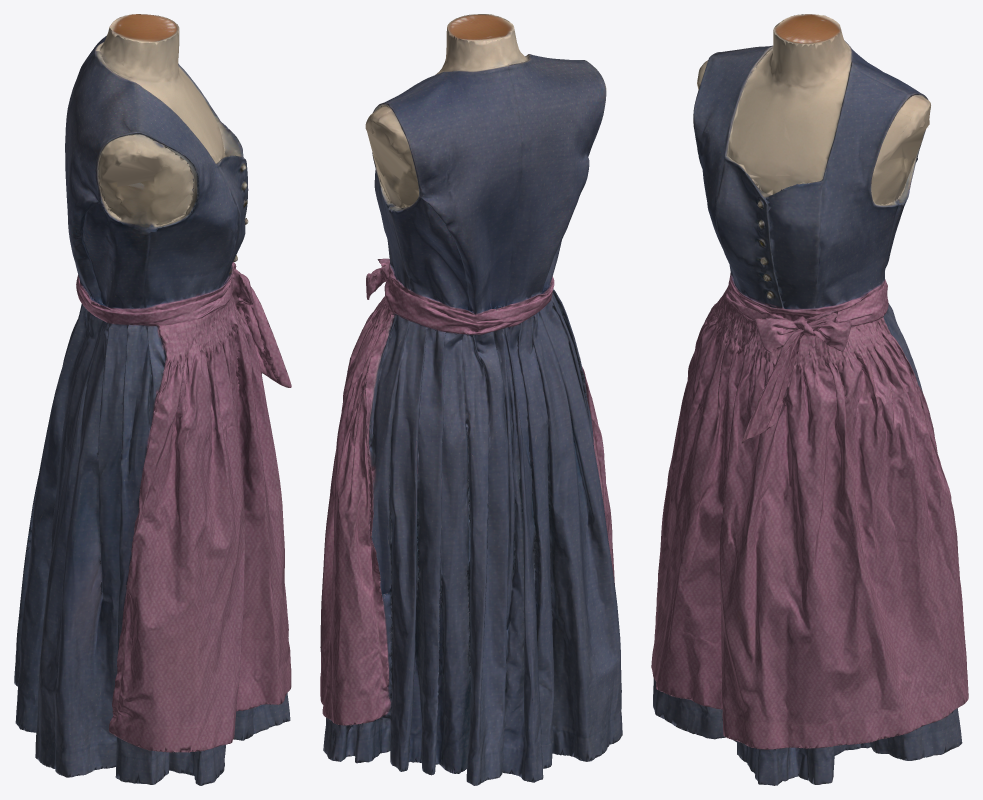
The picture shows the model from 3 angles, left to right: view 1: azimuth 30°, elevation 25°; view 2: azimuth 150°, elevation 25°; view 3: azimuth 270°, elevation 25°; orthographic projection.
Visible parts, largest first — view 1: Dirndl_140k_2k; view 2: Dirndl_140k_2k; view 3: Dirndl_140k_2k.
Part boxes in pixels (<box>): Dirndl_140k_2k: <box>14,14,291,785</box>; Dirndl_140k_2k: <box>320,14,622,785</box>; Dirndl_140k_2k: <box>651,14,968,785</box>.
Size of the model in its own units: 0.4082 by 1.13 by 0.4648.
Materials: 1 (1 with a texture image).
